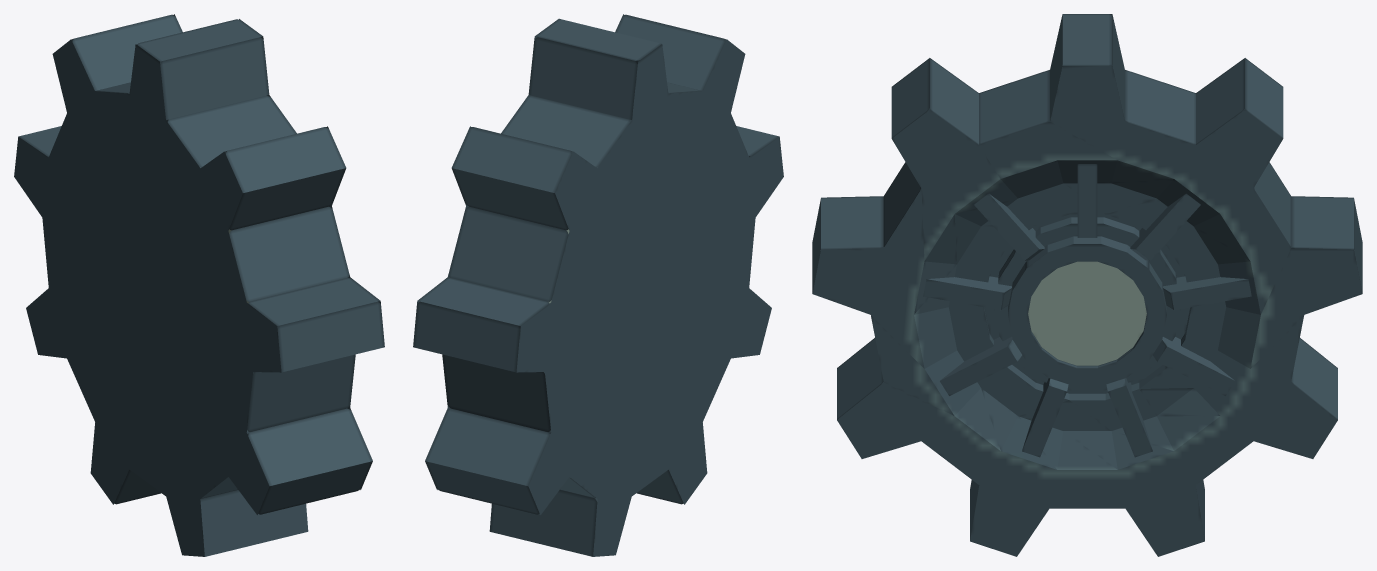
Rendered from vault_tech_blast_door.obj.
3 renders of one model, left to right at view 1: azimuth 30°, elevation 25°; view 2: azimuth 150°, elevation 25°; view 3: azimuth 270°, elevation 25°, orthographic. The views are drawn at different scales.
Visible parts, largest first — view 1: Cylinder; view 2: Cylinder; view 3: Cylinder.
Part boxes in pixels (box(x1,y1,x2,y2)): Cylinder: box(14, 14, 384, 556); Cylinder: box(413, 14, 783, 556); Cylinder: box(812, 14, 1362, 556).
Bounding box in the file's own units: 1 × 4.41 × 4.48.
